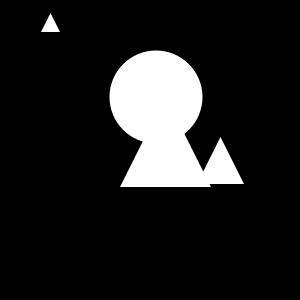rectangle: (110, 50, 202, 143)
triangle: (120, 96, 211, 187), (197, 137, 244, 184), (41, 13, 60, 32)
